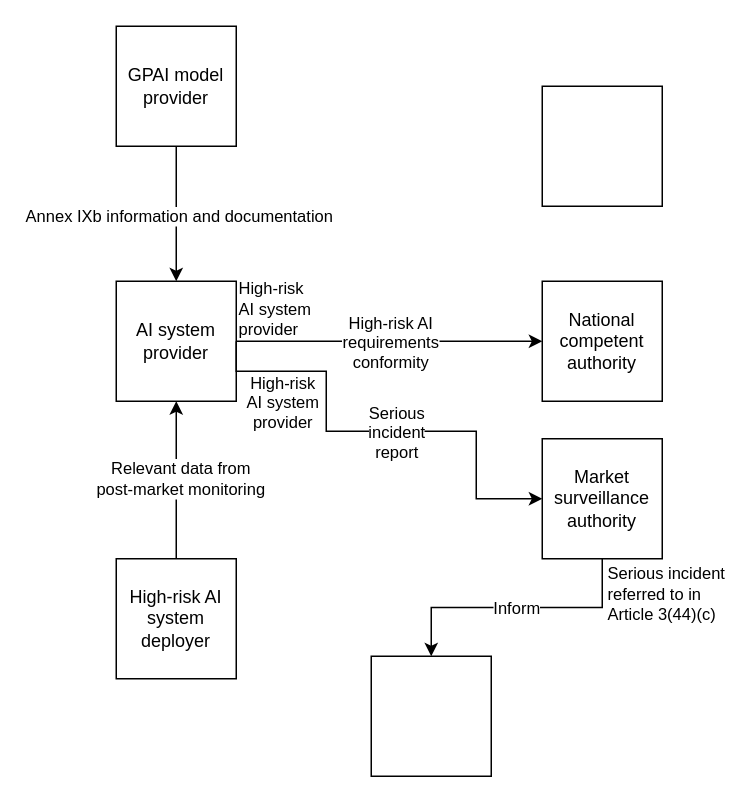
Some shapes in this 752 by 803 pixel diagram are drawn without their labels. The centre of each missing label's shape, as x and y in pixels:
"Commission" belongs at (601,145).
"National public authority" belongs at (430,715).
